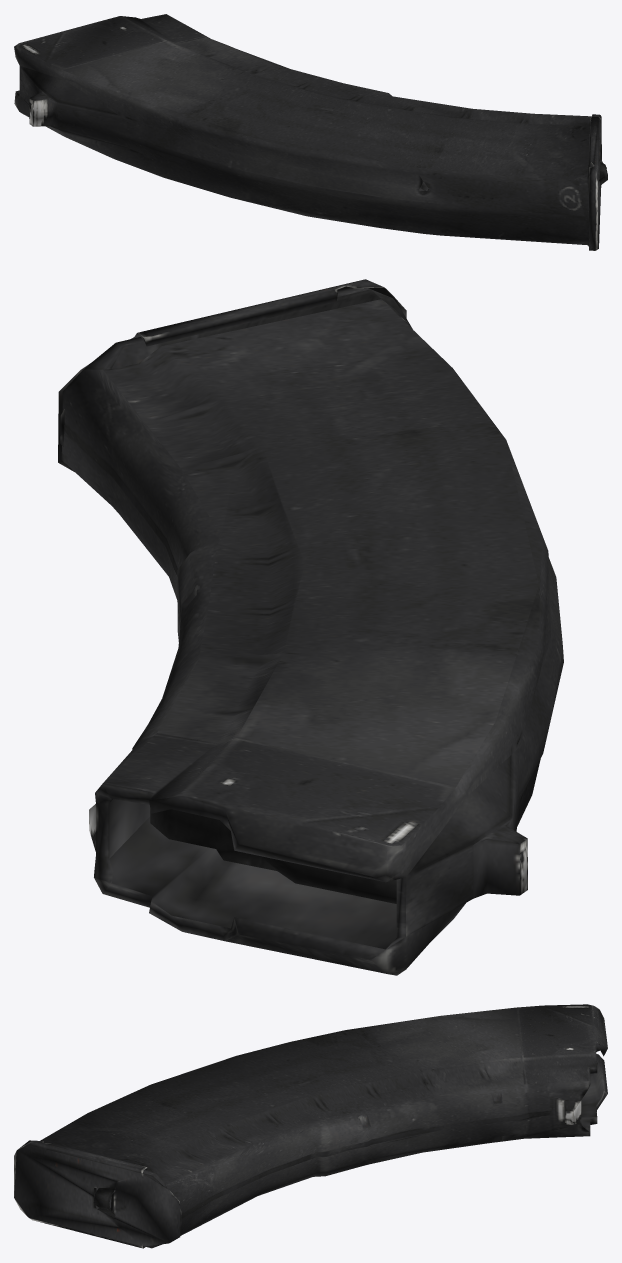
File: Mag762.fbx
3 renders of one model, top to bottom at view 1: azimuth 30°, elevation 25°; view 2: azimuth 150°, elevation 25°; view 3: azimuth 270°, elevation 25°, orthographic. The views are drawn at different scales.
Parts seen in each view (by area): view 1: Mag762; view 2: Mag762; view 3: Mag762.
Part boxes in pixels (x1,y1,x2,y2): Mag762: [14, 14, 607, 250]; Mag762: [58, 279, 563, 975]; Mag762: [14, 1004, 607, 1248].
Bounding box in the file's own units: 0.1075 × 0.0205 × 0.1382.
